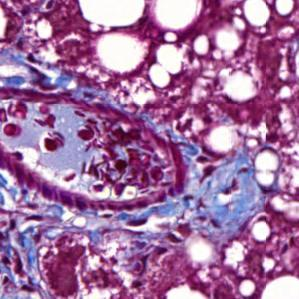steatosis: (94, 33, 147, 74)
